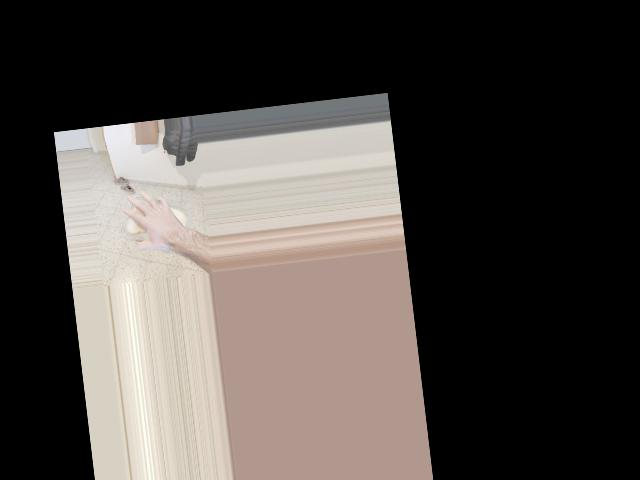cheese: (119, 187, 192, 259)
